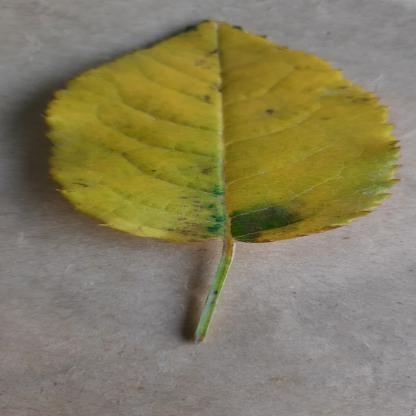black-spot: (41, 19, 406, 245)
